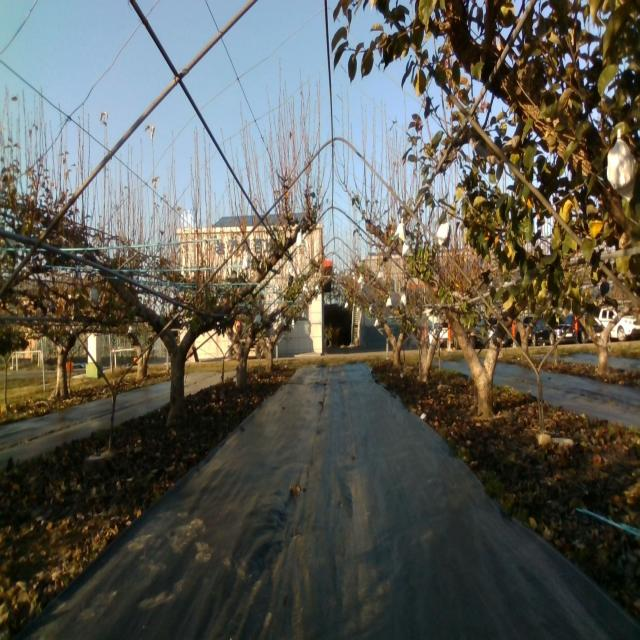pearbags: (606, 130, 637, 200), (437, 218, 451, 248)
